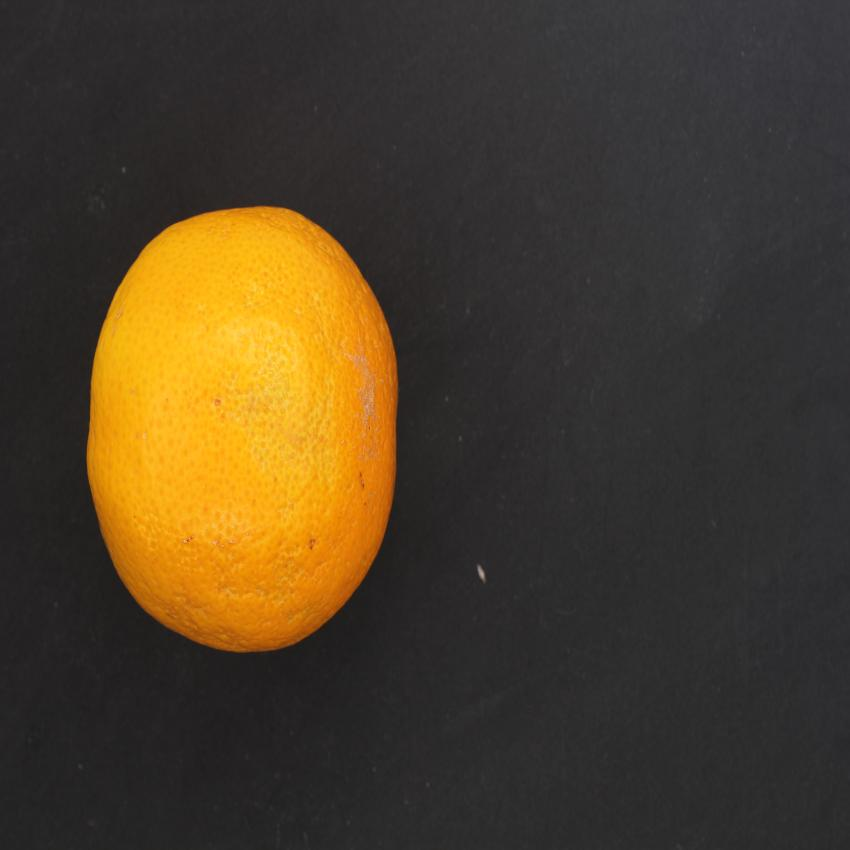Buen estado: (79, 188, 410, 667)
